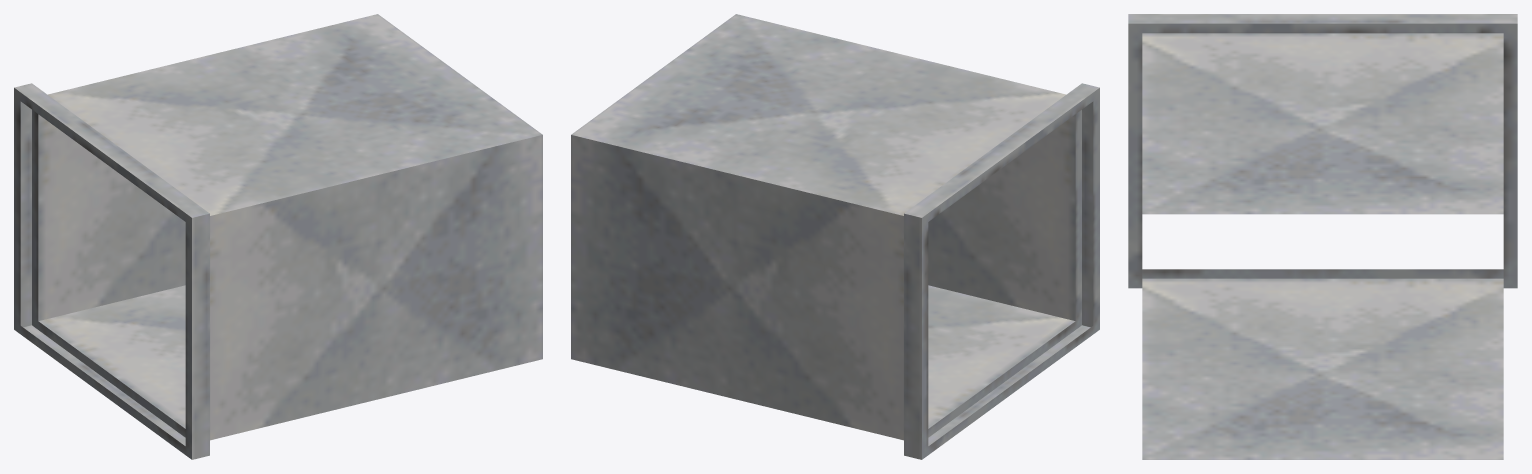
The model's file is duct.fbx.
3 views of the same model, side by side, from view 1: azimuth 30°, elevation 25°; view 2: azimuth 150°, elevation 25°; view 3: azimuth 270°, elevation 25° (orthographic). The views are drawn at different scales.
Parts seen in each view (by area): view 1: Cube; view 2: Cube; view 3: Cube.
Part boxes in pixels (<box>): Cube: <box>14,14,542,459</box>; Cube: <box>571,14,1099,459</box>; Cube: <box>1128,14,1517,459</box>.
Size of the model in its own units: 200 by 129 by 173.
